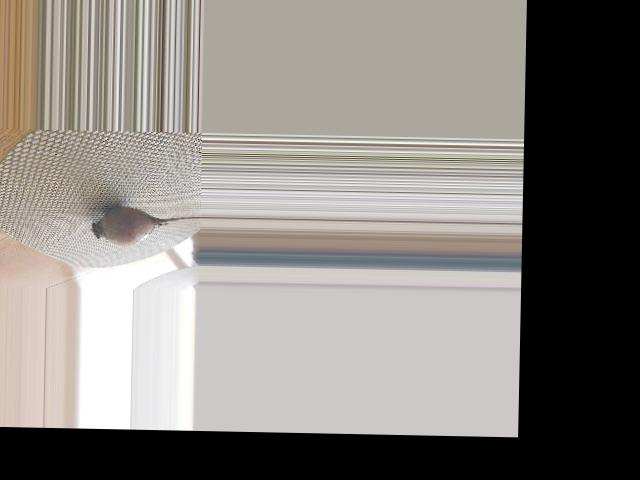beet: (90, 206, 200, 247)
